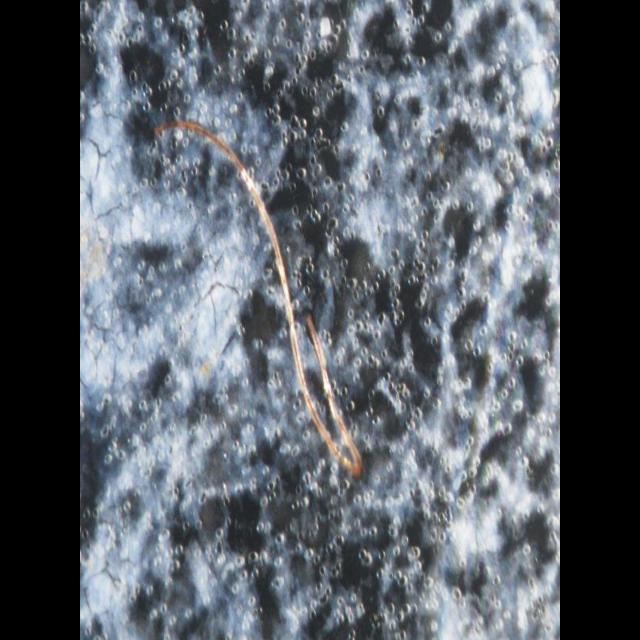Fibre: (153, 117, 363, 480)
